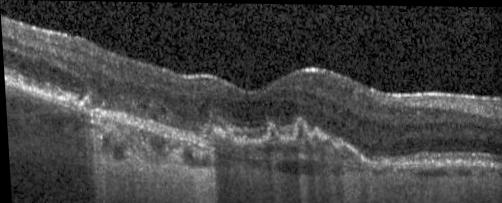intraretinal_cyst: (3, 50, 87, 95)
subretinal_hyperreflective_material: (204, 117, 393, 164)
